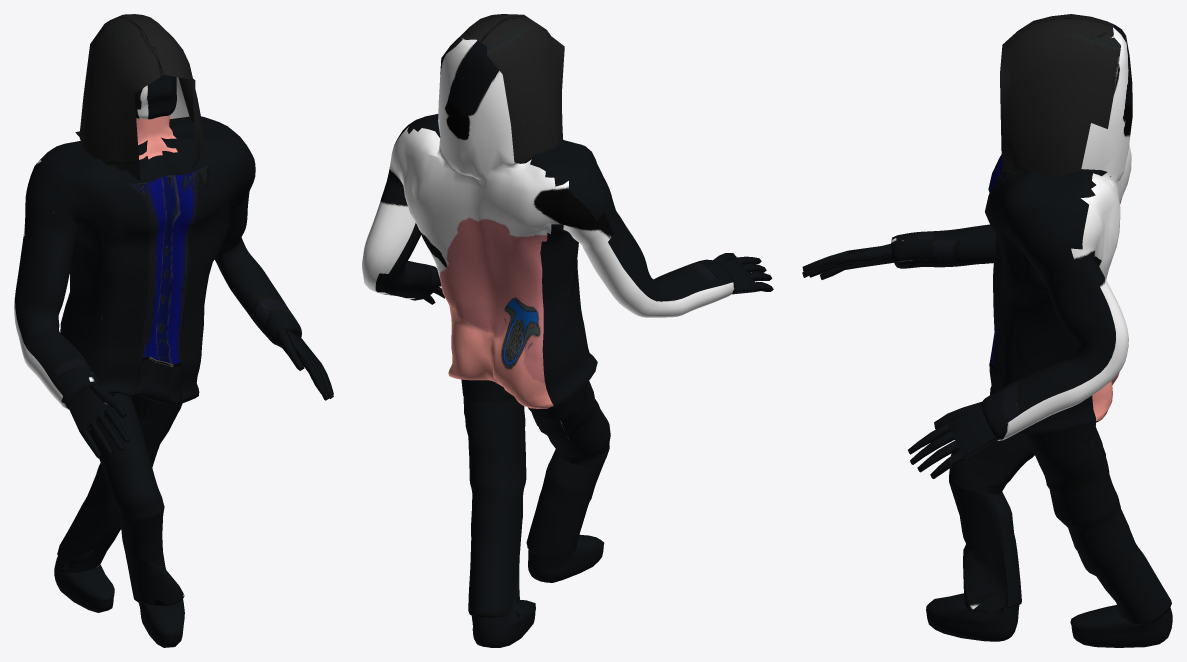
The model's file is keyFrame02.obj.
3 views of the same model, side by side, from view 1: azimuth 30°, elevation 25°; view 2: azimuth 150°, elevation 25°; view 3: azimuth 270°, elevation 25° (orthographic). The views are drawn at different scales.
Parts seen in each view (by area): view 1: pasted__polySurface71 group4; view 2: pasted__polySurface71 group4; view 3: pasted__polySurface71 group4.
Boxes of the visible parts, x1,y1,x2,y2 form: pasted__polySurface71 group4: (14,14,333,647); pasted__polySurface71 group4: (362,14,773,647); pasted__polySurface71 group4: (802,14,1172,647).
Size of the model in its own units: 6.6 by 12.68 by 6.65.
1 material, 1 textured.
